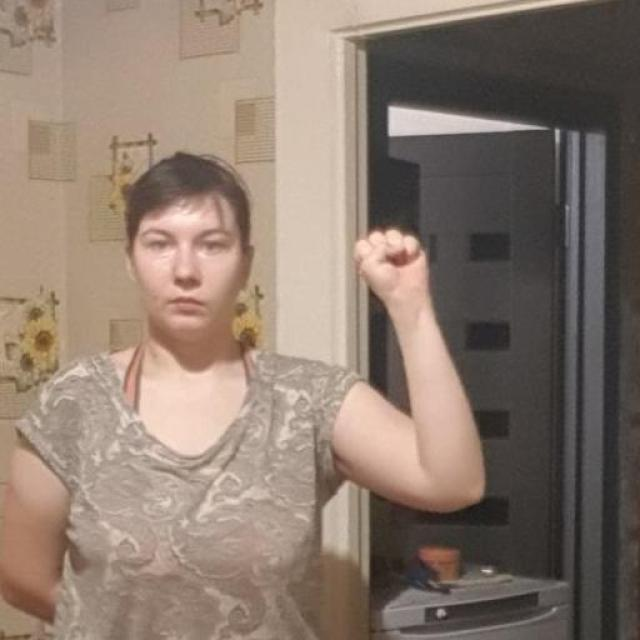hand: (351, 226, 431, 312)
